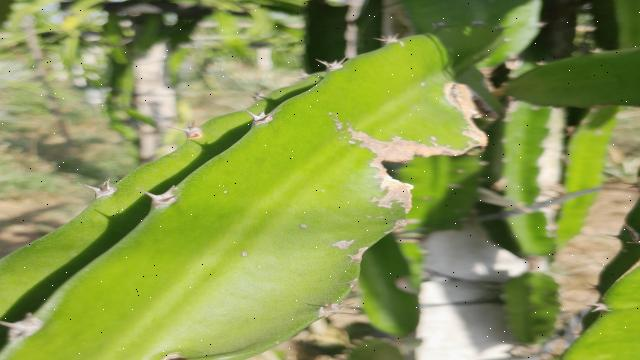stemcanker: (287, 249, 330, 276), (326, 236, 357, 252)
